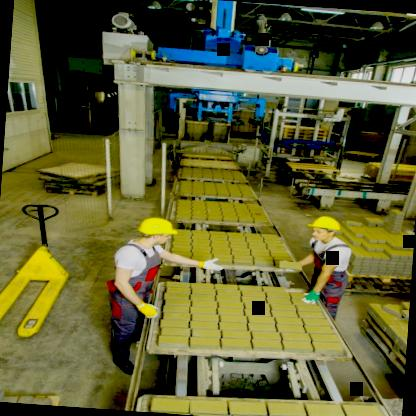helmet: (132, 211, 180, 256), (308, 209, 346, 250)
